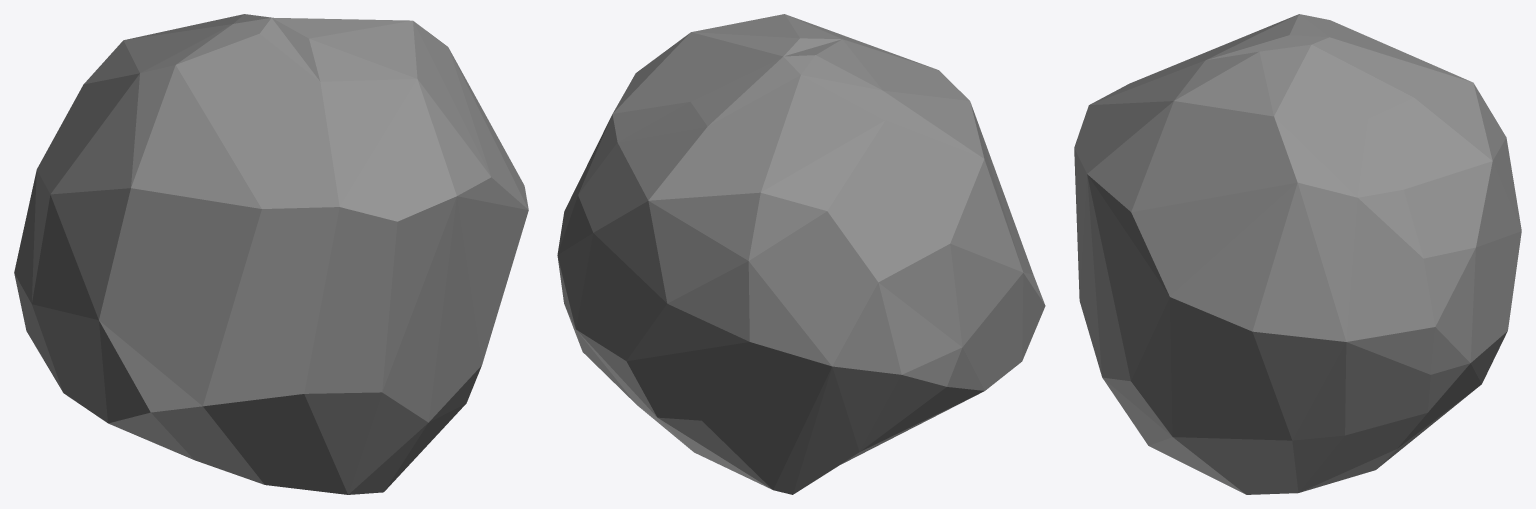
The model's file is Boulder 4.fbx.
The picture shows the model from 3 angles, left to right: view 1: azimuth 30°, elevation 25°; view 2: azimuth 150°, elevation 25°; view 3: azimuth 270°, elevation 25°; orthographic projection. The views are drawn at different scales.
Parts seen in each view (by area): view 1: Boulder_4; view 2: Boulder_4; view 3: Boulder_4.
Part boxes in pixels (x1,y1,x2,y2): Boulder_4: (14,14,528,494); Boulder_4: (557,14,1045,494); Boulder_4: (1074,14,1521,494).
Size of the model in its own units: 197 by 193 by 186.
Materials: 1 (1 with a texture image).
